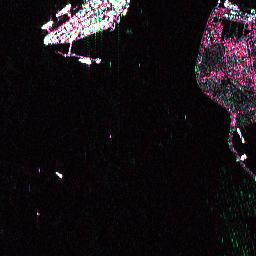ship: (53, 1, 72, 18), (234, 125, 247, 145), (39, 18, 54, 30), (53, 169, 65, 180), (78, 57, 92, 65)
